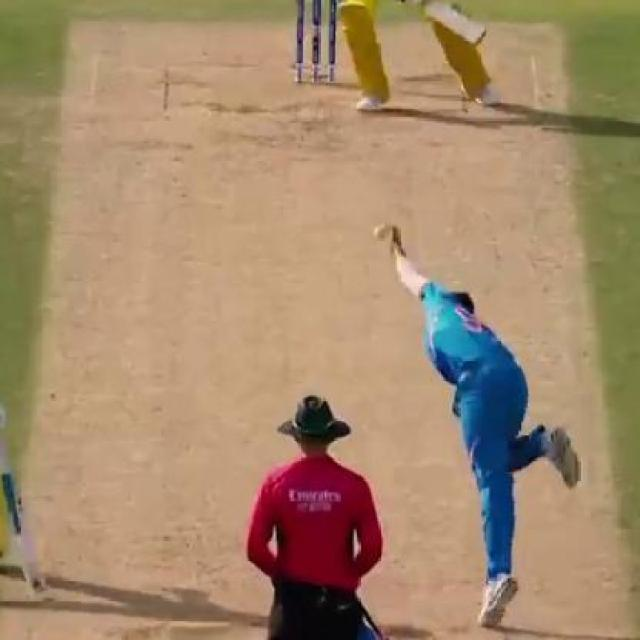Cricket ball: (374, 222, 389, 242)
